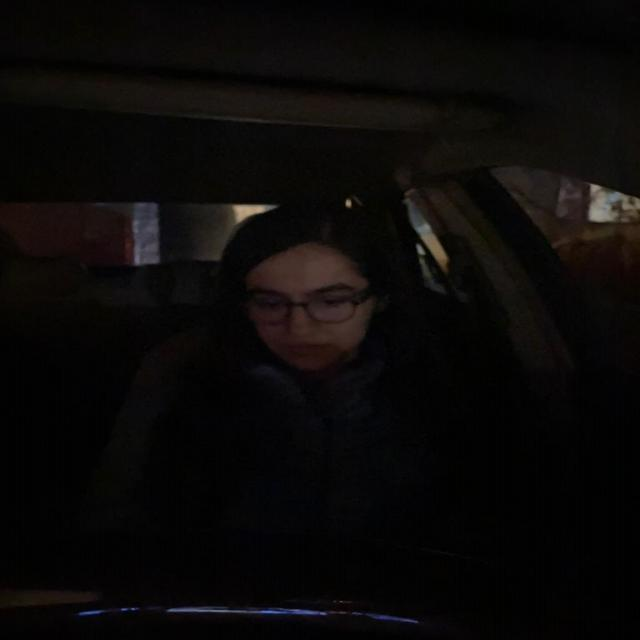person: (212, 202, 412, 386)
